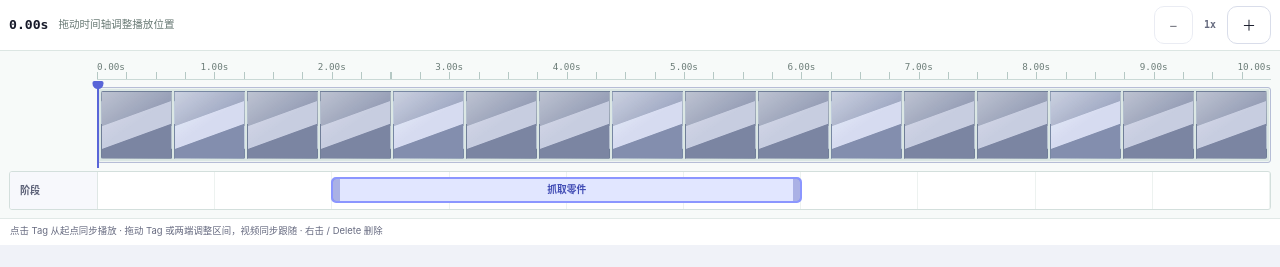
Test case: direct Tag manipulation › selects a right-clicked Tag and offers deletion at the pointer
The width and height of the screenshot is (1280, 267).
Right-click the button with aria-label "从“抓取零件”起点" at point(567, 190), box top-left (332, 178), bottom-right (801, 202)
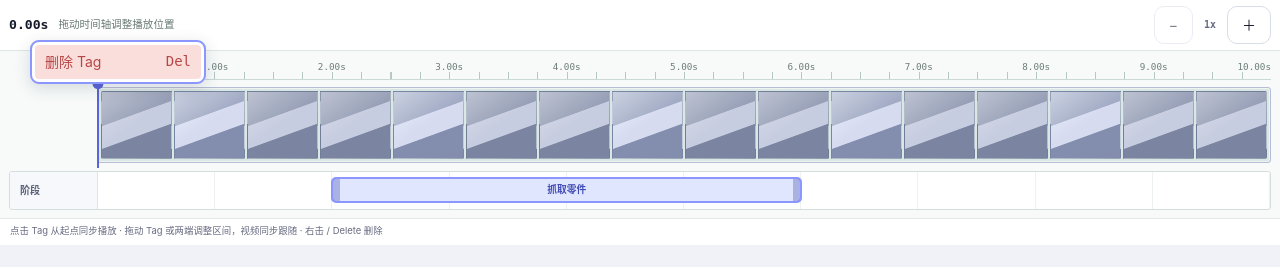
Click the menu item "删除 Tag Del" at point(118, 62), box top-left (35, 45), bottom-right (201, 79)
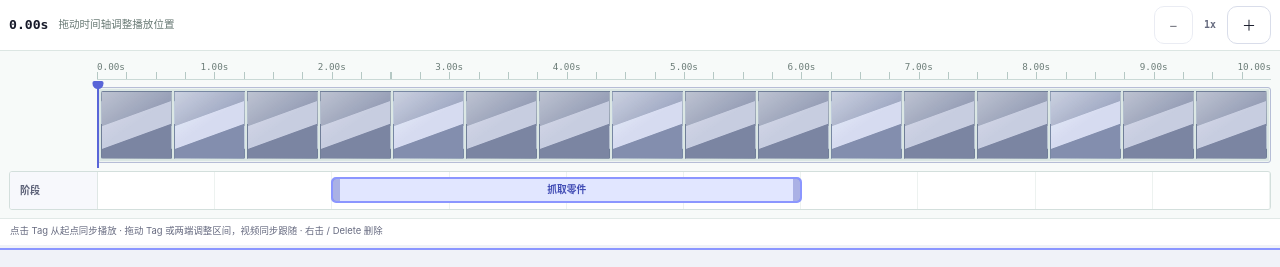
Check: the menu is gone
